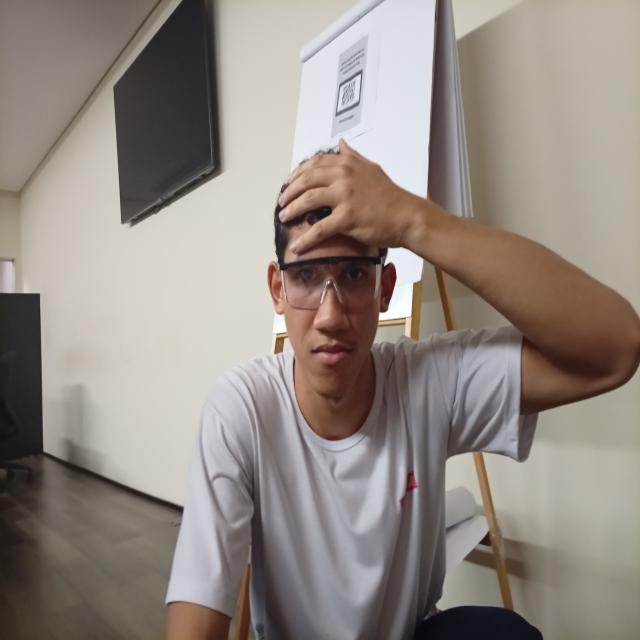oculos-epi: (277, 256, 386, 310), (278, 256, 386, 310)
